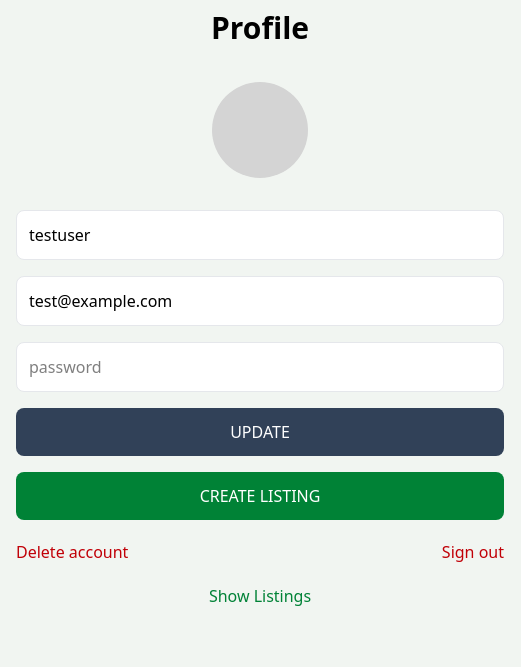
Test: Profile Component › shows error if deleteUser returns success: false
The image size is (521, 667).
# Clicking "Delete account"
Click the text "Delete account" at (72,552), box [16, 540, 128, 564]
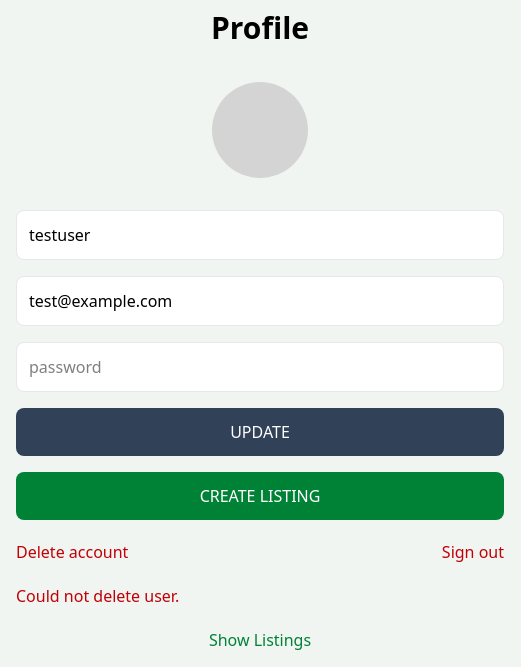
Check: the text "Could not delete user." is shown, box [16, 585, 179, 607]
